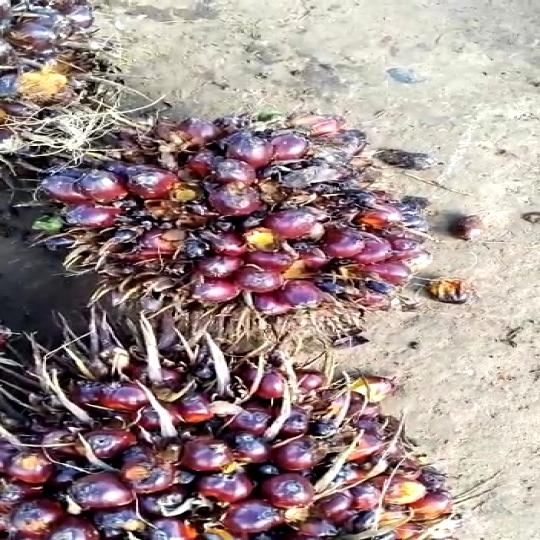masak: (13, 100, 521, 342), (0, 318, 488, 538)
